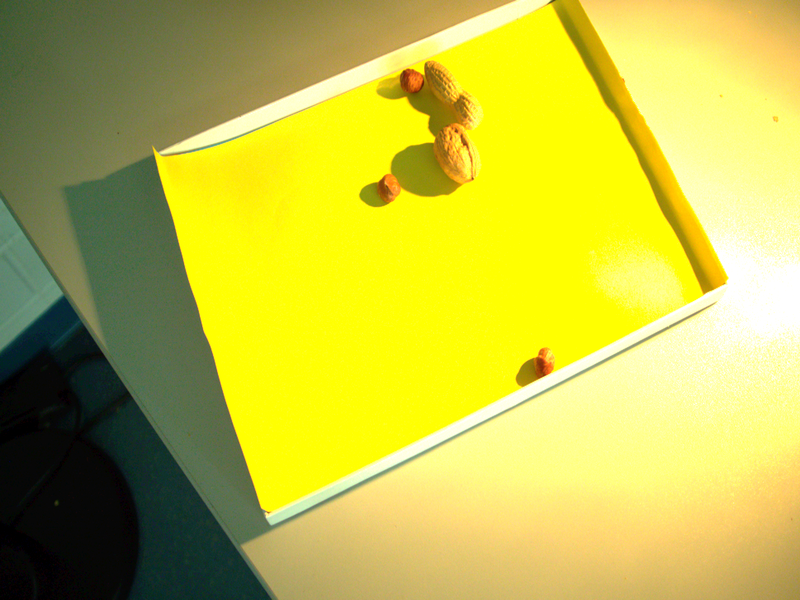walnut: (430, 121, 482, 191)
